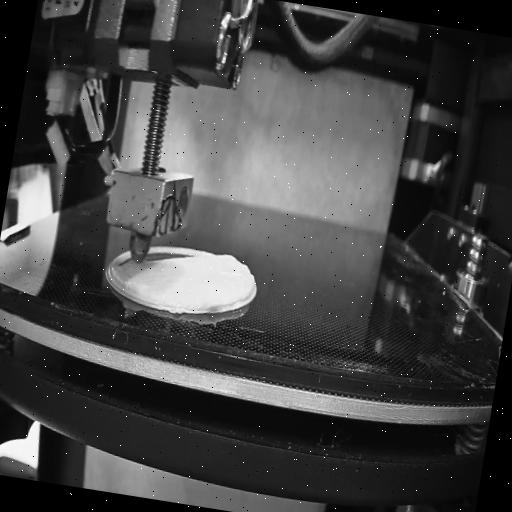over_extrusion: (216, 249, 260, 304)
